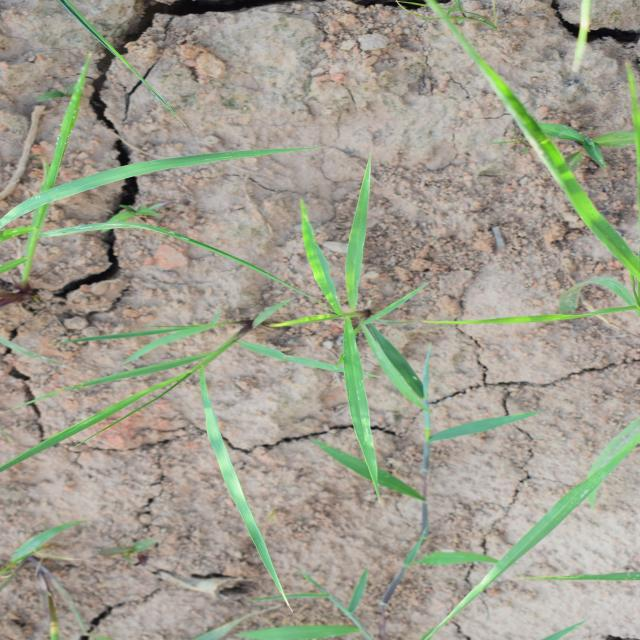green_foxtail: (99, 14, 348, 288), (200, 283, 452, 472)
